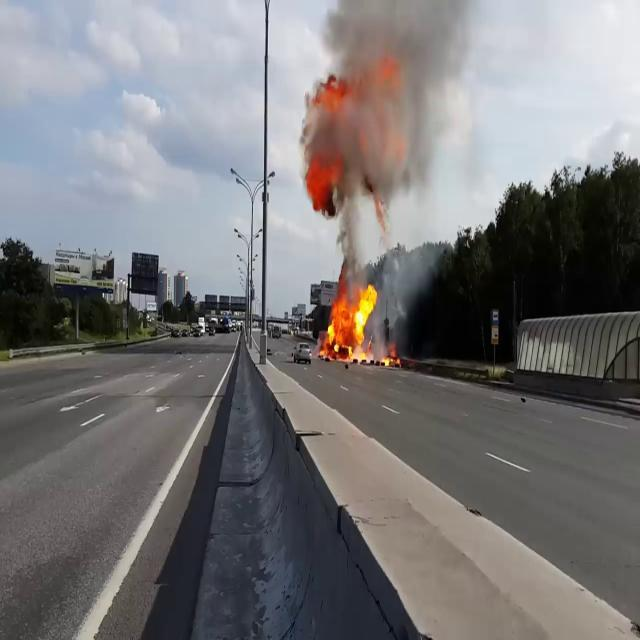Fire: (324, 282, 381, 360)
Smoke: (298, 0, 470, 266)
